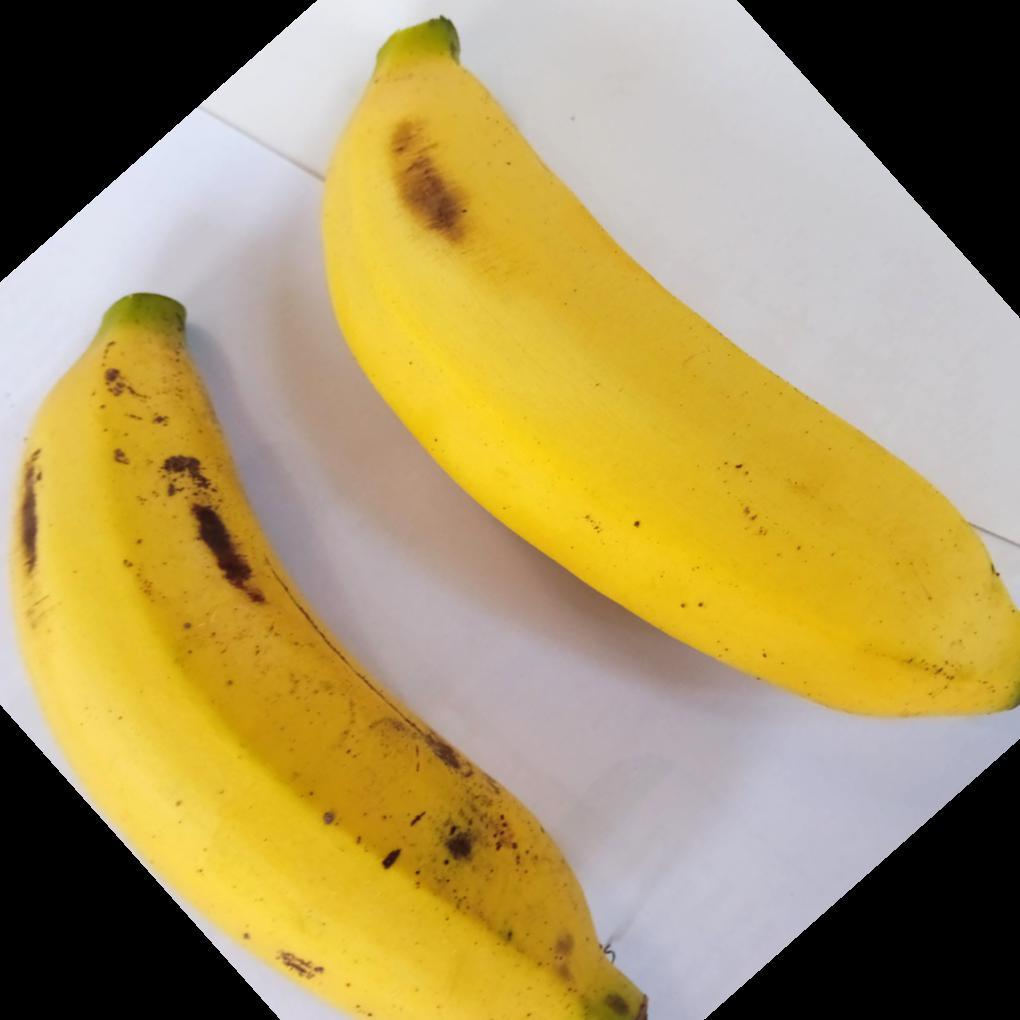Banana Ripe: (273, 0, 1020, 772), (0, 240, 736, 1020)
